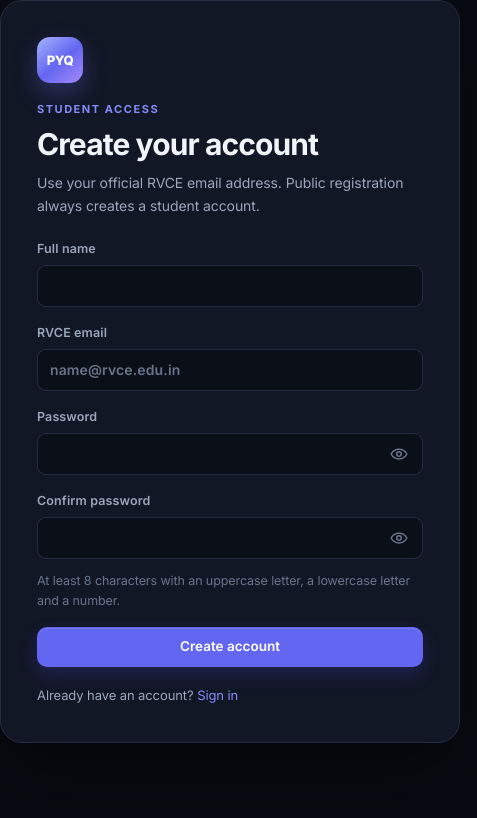
Register flow › rejects passwords that do not match
This screenshot has width=477, height=818.
Type "New Student" into the field labelled "Full name" at (230, 286), box 37,265 -> 423,307
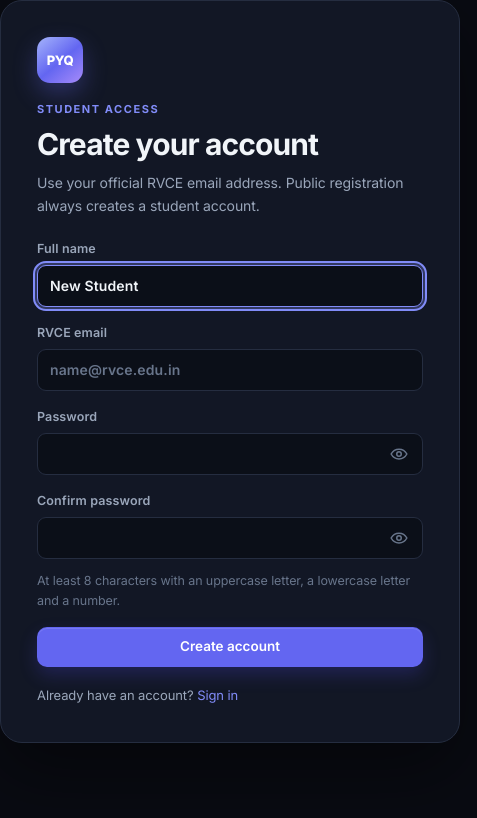
Type "student@rvce.edu.in" into the field labelled "RVCE email" at (230, 370), box 37,349 -> 423,391
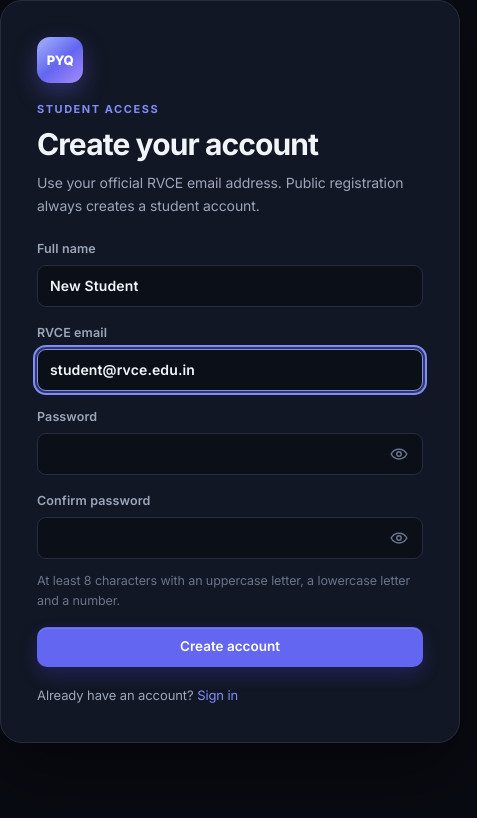
Type "StrongPass1" into the password field labelled "Password" at (230, 454), box 37,433 -> 423,475
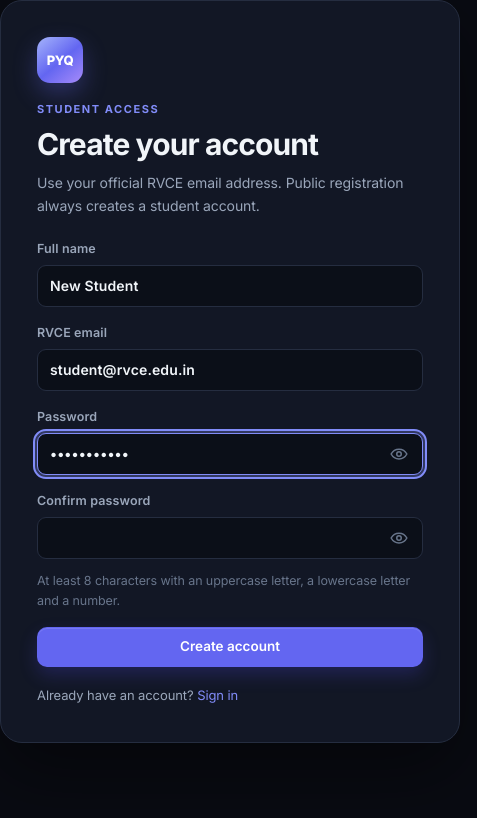
Type "DifferentPass2" into the password field labelled "Confirm password" at (230, 538), box 37,517 -> 423,559
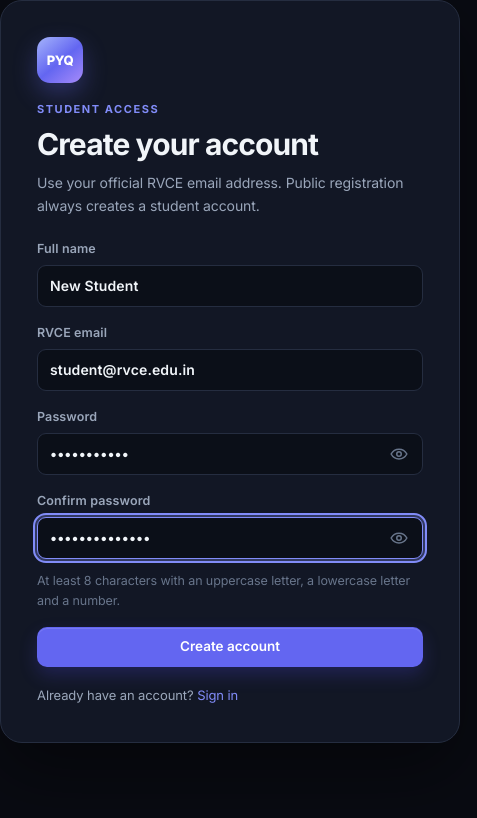
Click the button "Create account" at (230, 647), box 37,627 -> 423,667
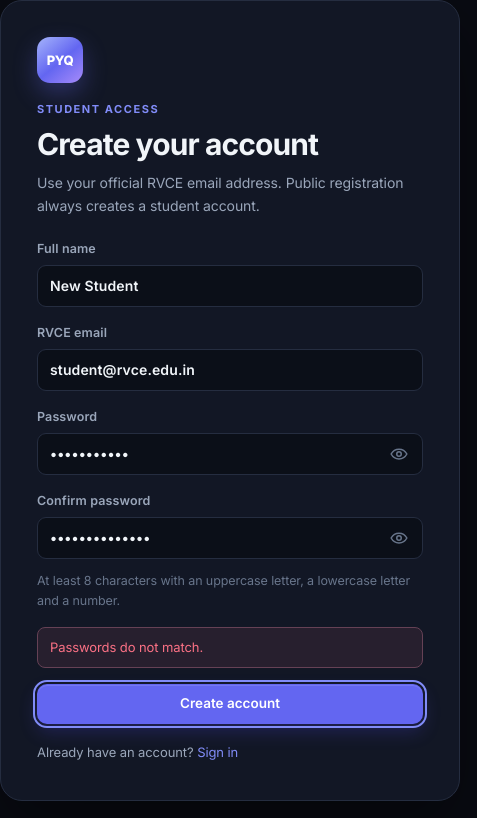
Now the text "Passwords do not match." is shown, box 37,627 -> 423,668
